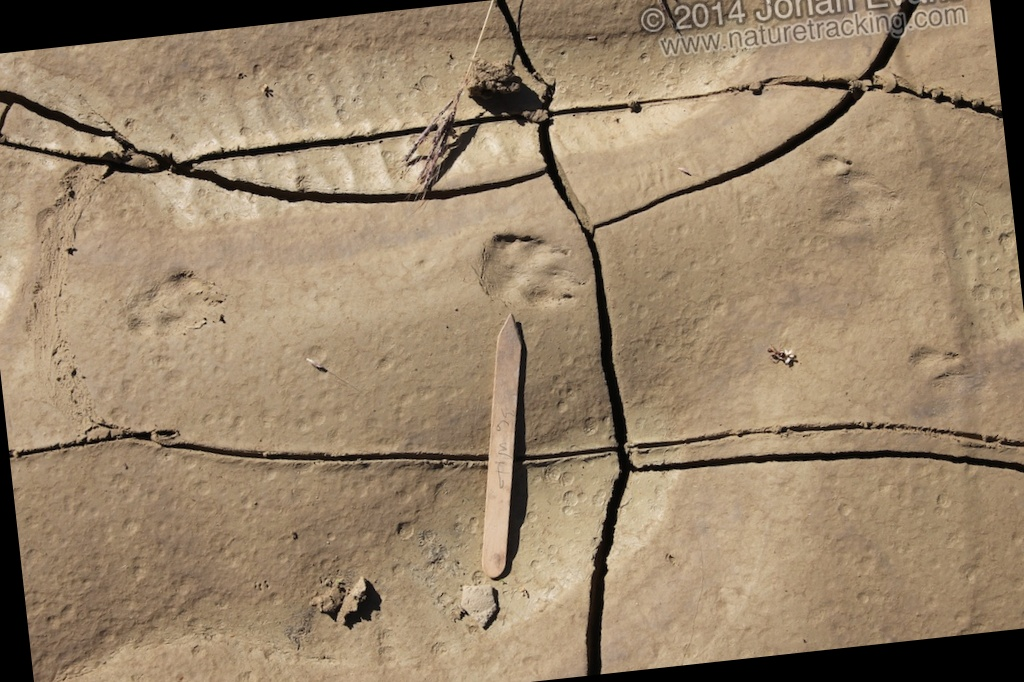rabbit: (441, 213, 597, 366)
